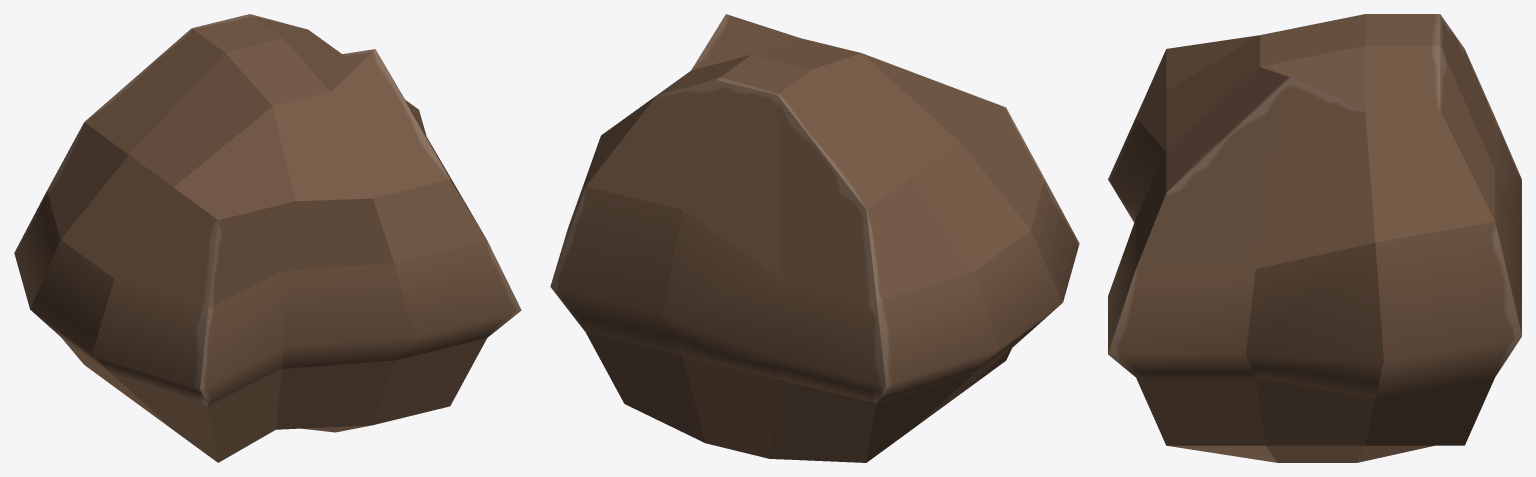
The model's file is RockSmall03.fbx.
The picture shows the model from 3 angles, left to right: view 1: azimuth 30°, elevation 25°; view 2: azimuth 150°, elevation 25°; view 3: azimuth 270°, elevation 25°; orthographic projection. The views are drawn at different scales.
Visible parts, largest first — view 1: pCube5; view 2: pCube5; view 3: pCube5.
Boxes of the visible parts, x1,y1,x2,y2 form: pCube5: (14,14,521,462); pCube5: (550,14,1079,462); pCube5: (1108,14,1521,462).
Bounding box in the file's own units: 1.69 × 1.44 × 1.32.
